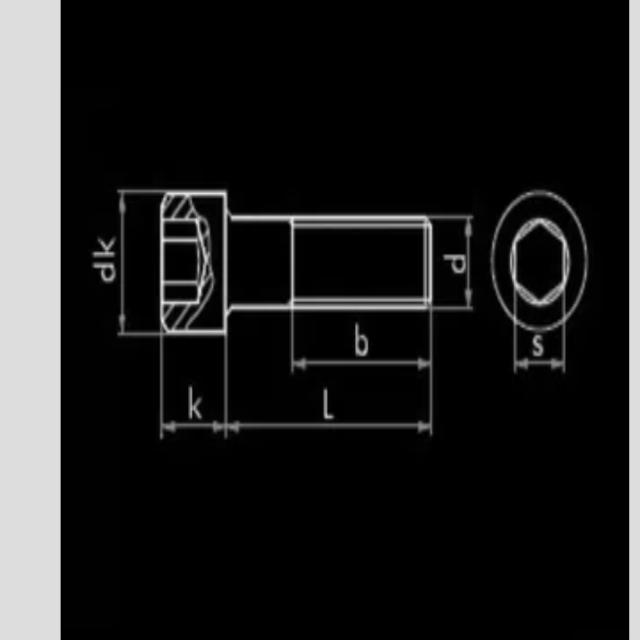marking_line: (220, 338, 436, 435), (289, 312, 437, 376), (159, 338, 229, 435), (115, 188, 159, 338), (435, 213, 474, 314), (511, 332, 566, 370)
numeric: (351, 316, 369, 358), (187, 382, 204, 420), (443, 250, 466, 274), (322, 386, 335, 423), (532, 334, 544, 358)
